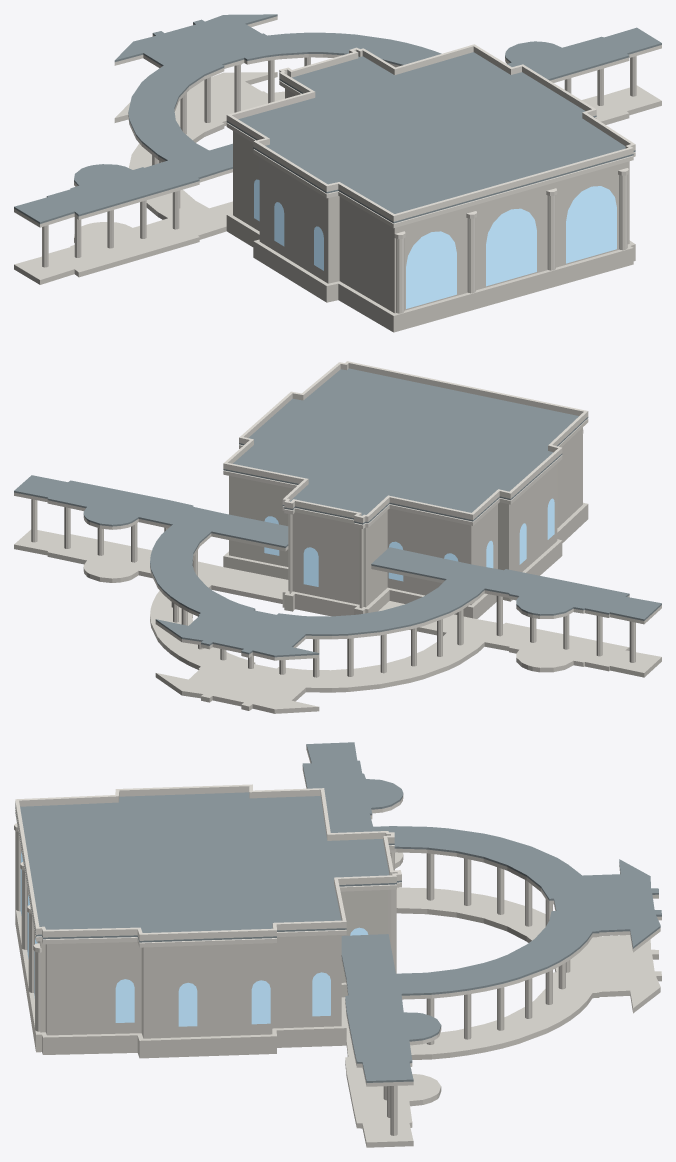
The model's file is detail.glb.
3 renders of one model, top to bottom at view 1: azimuth 30°, elevation 25°; view 2: azimuth 150°, elevation 25°; view 3: azimuth 270°, elevation 25°, orthographic. The views are drawn at different scales.
Parts seen in each view (by area): view 1: roof, stone, trim, window; view 2: roof, stone, trim, window; view 3: roof, stone, trim, window.
Boxes of the visible parts, <box> form: roof: <box>14,14,661,223</box>; stone: <box>14,56,661,332</box>; trim: <box>14,16,661,313</box>; window: <box>254,179,616,308</box>; roof: <box>14,368,661,657</box>; stone: <box>14,427,661,713</box>; trim: <box>14,361,661,660</box>; window: <box>264,498,554,586</box>; roof: <box>15,742,661,1082</box>; stone: <box>15,849,661,1147</box>; trim: <box>14,746,661,1086</box>; window: <box>20,851,368,1026</box>.
Size of the model in its own units: 76.38 by 13 by 61.72.
